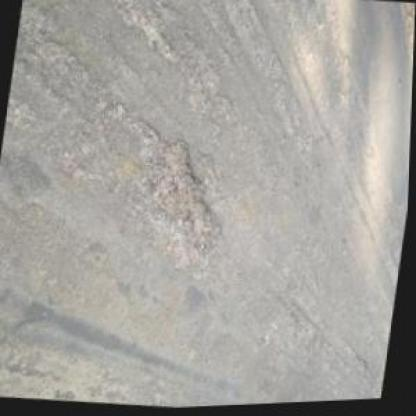pothole: (141, 133, 226, 244)
